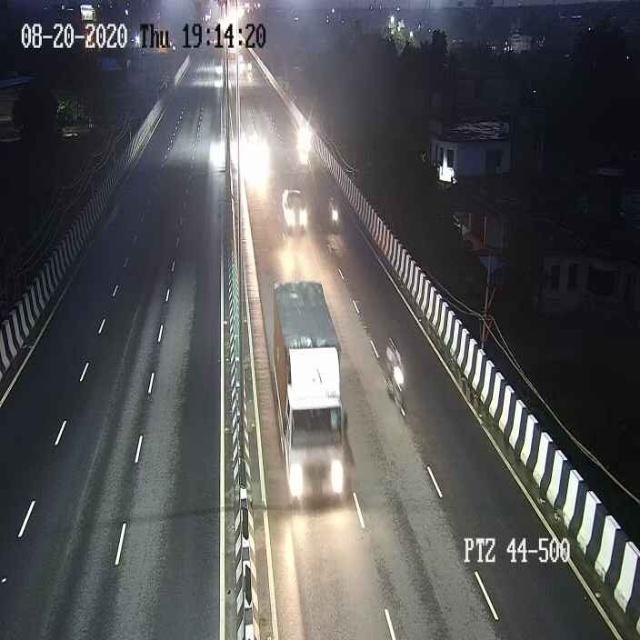car: (279, 185, 310, 235)
